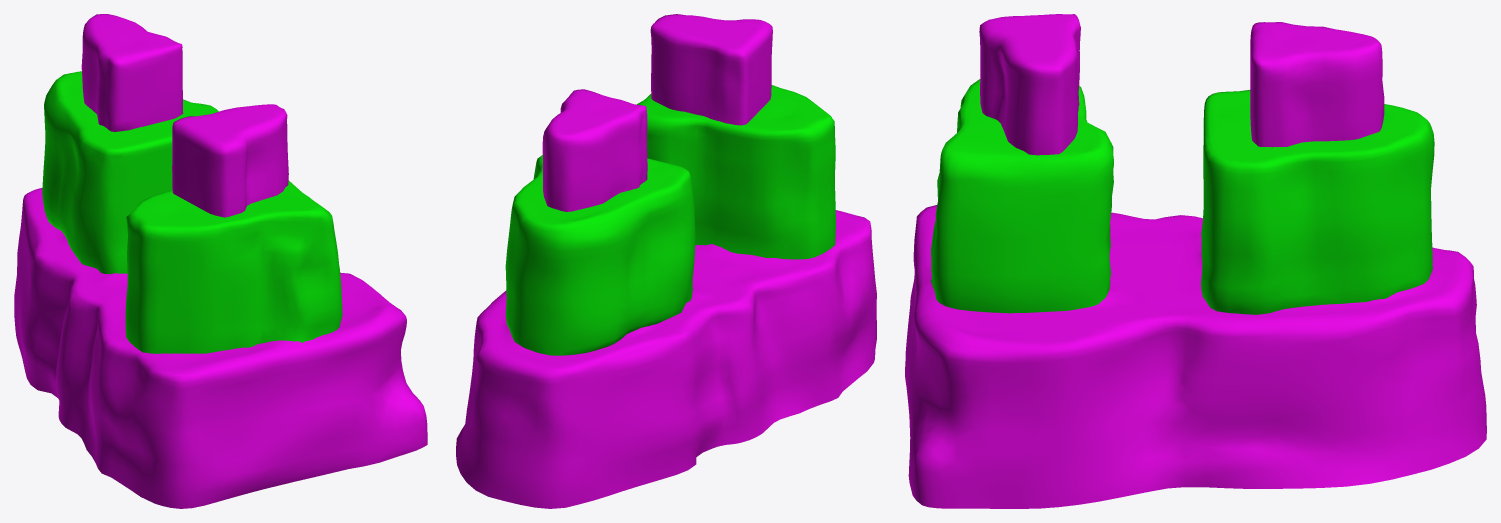
The model's file is rock3.fbx.
3 views of the same model, side by side, from view 1: azimuth 30°, elevation 25°; view 2: azimuth 150°, elevation 25°; view 3: azimuth 270°, elevation 25° (orthographic). The views are drawn at different scales.
Parts seen in each view (by area): view 1: rocher3:rock3; view 2: rocher3:rock3; view 3: rocher3:rock3.
Boxes of the visible parts, bbox=[...] form: rocher3:rock3: bbox=[14, 14, 427, 508]; rocher3:rock3: bbox=[456, 14, 876, 508]; rocher3:rock3: bbox=[905, 14, 1486, 508].
Size of the model in its own units: 36.75 by 40.94 by 55.94.
